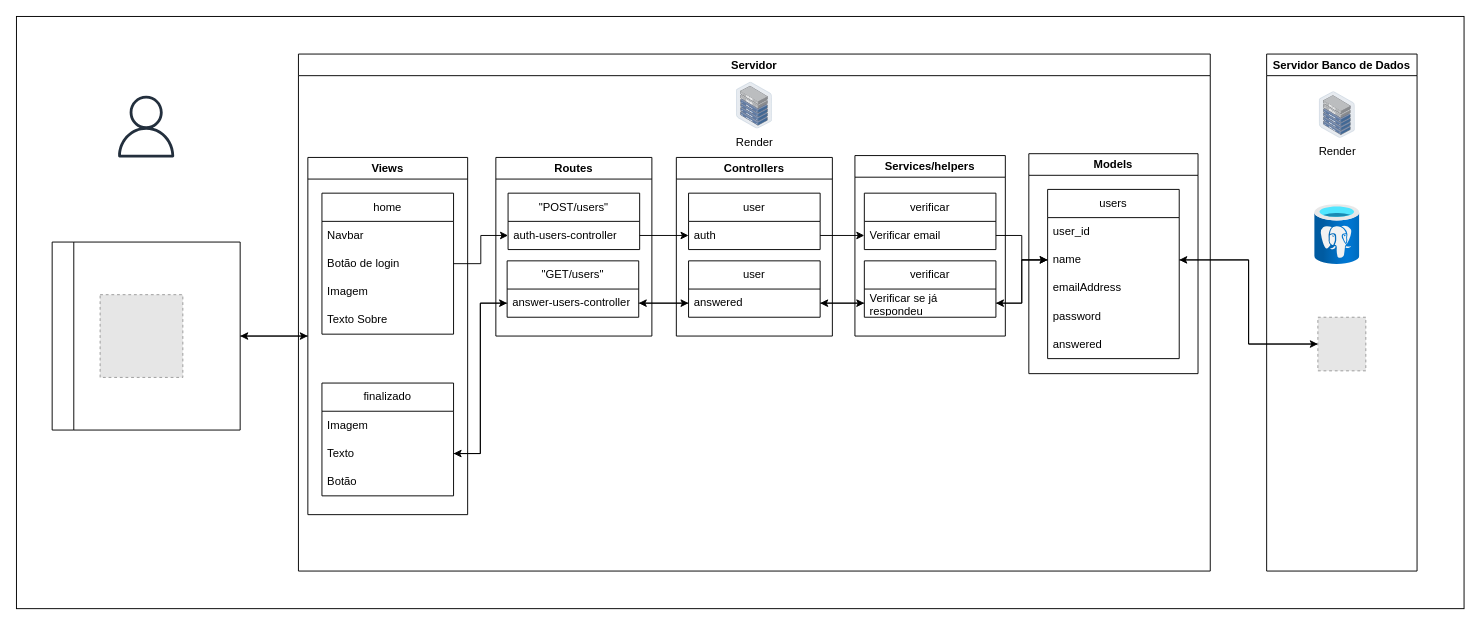
The diagram is 1481 pixels wide and 625 high, and some of its shapes have lost their labels. Grey dashed boxes stand in for pictures. The centre of each missing label's shape, as x and y in pixels:
"Cliente" belongs at point 145,335.
"Usuário" belongs at point 146,126.
